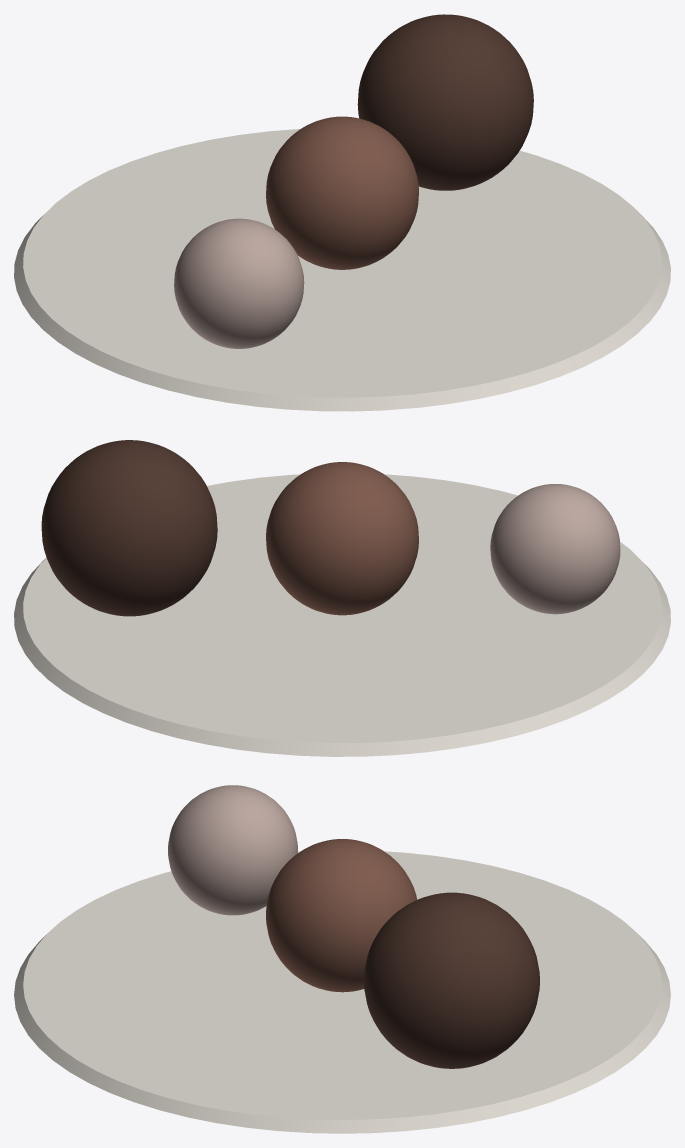
Rendered from brown.glb.
3 renders of one model, top to bottom at view 1: azimuth 30°, elevation 25°; view 2: azimuth 150°, elevation 25°; view 3: azimuth 270°, elevation 25°, orthographic.
Visible parts, largest first — view 1: base, dark, normal, light; view 2: base, dark, normal, light; view 3: base, dark, normal, light.
Boxes of the visible parts, x1,y1,x2,y2 form: base: (14, 129, 670, 411); dark: (357, 14, 533, 190); normal: (266, 116, 418, 269); light: (174, 218, 304, 348); base: (14, 474, 670, 756); dark: (41, 440, 217, 616); normal: (266, 462, 418, 615); light: (490, 484, 620, 614); base: (14, 851, 670, 1133); dark: (364, 892, 539, 1068); normal: (266, 839, 416, 992); light: (168, 785, 297, 915).
Size of the model in its own units: 3.6 by 1.03 by 3.6.
